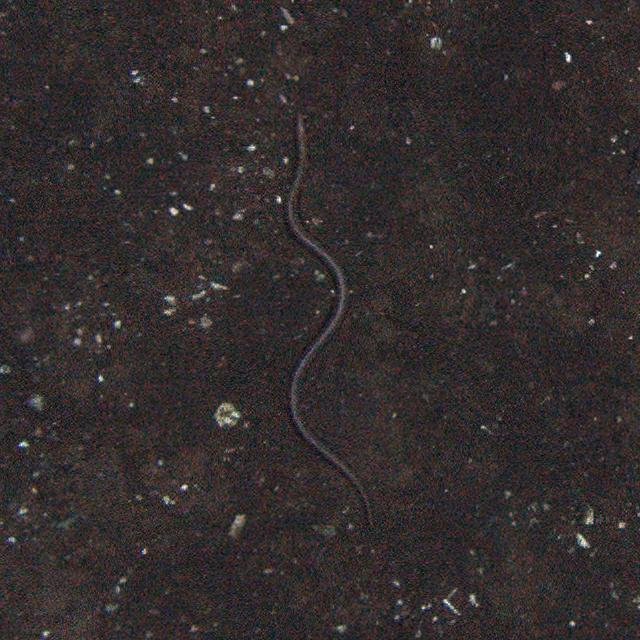eel: (277, 114, 380, 530)
